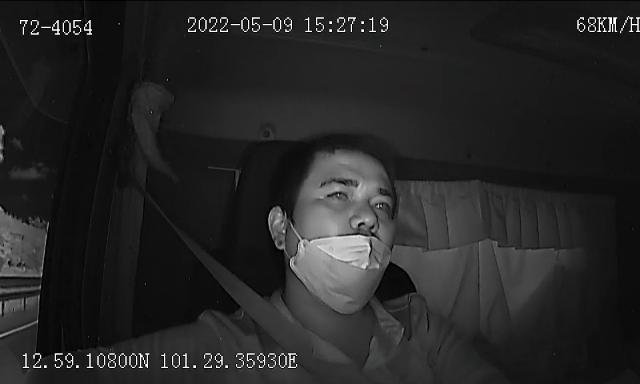SafeDriving: (319, 183, 355, 206), (367, 191, 396, 214)
Seatbelt: (186, 240, 358, 384)
